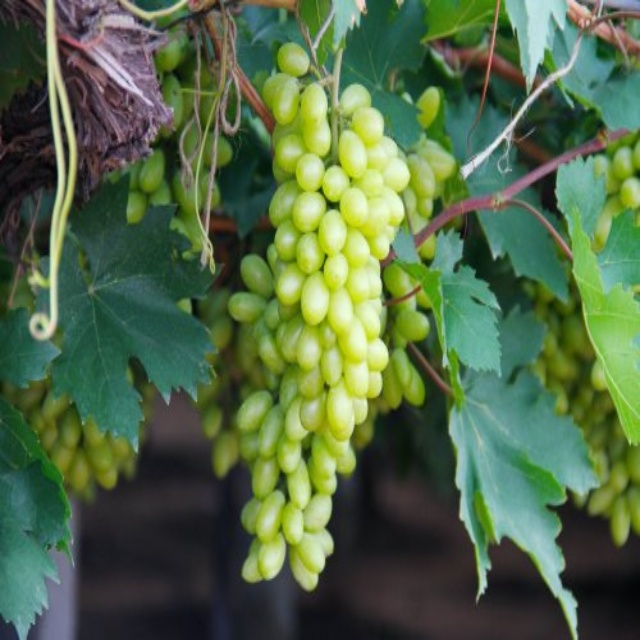grape: (234, 42, 405, 599)
